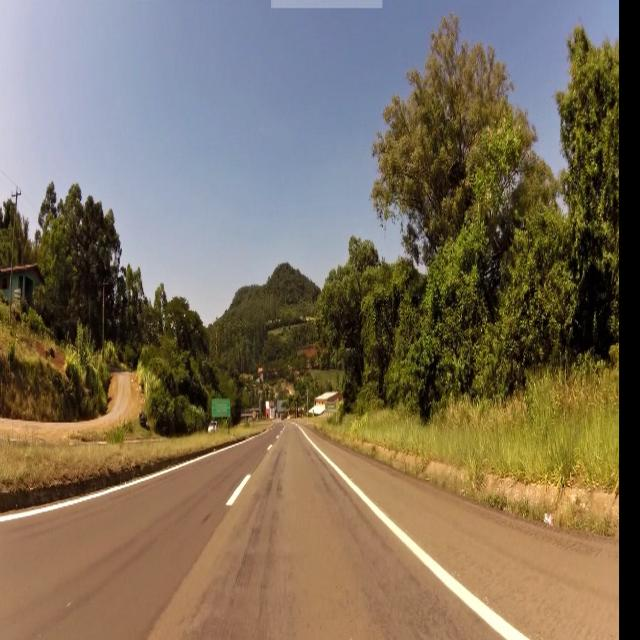I-4: (213, 398, 230, 415)
